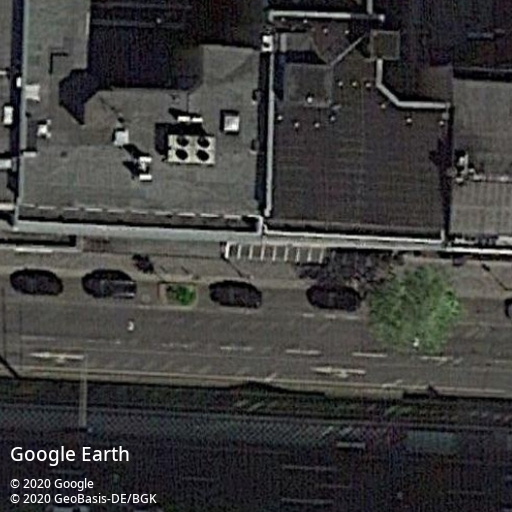Chiller: (167, 133, 217, 165), (261, 34, 273, 55)
